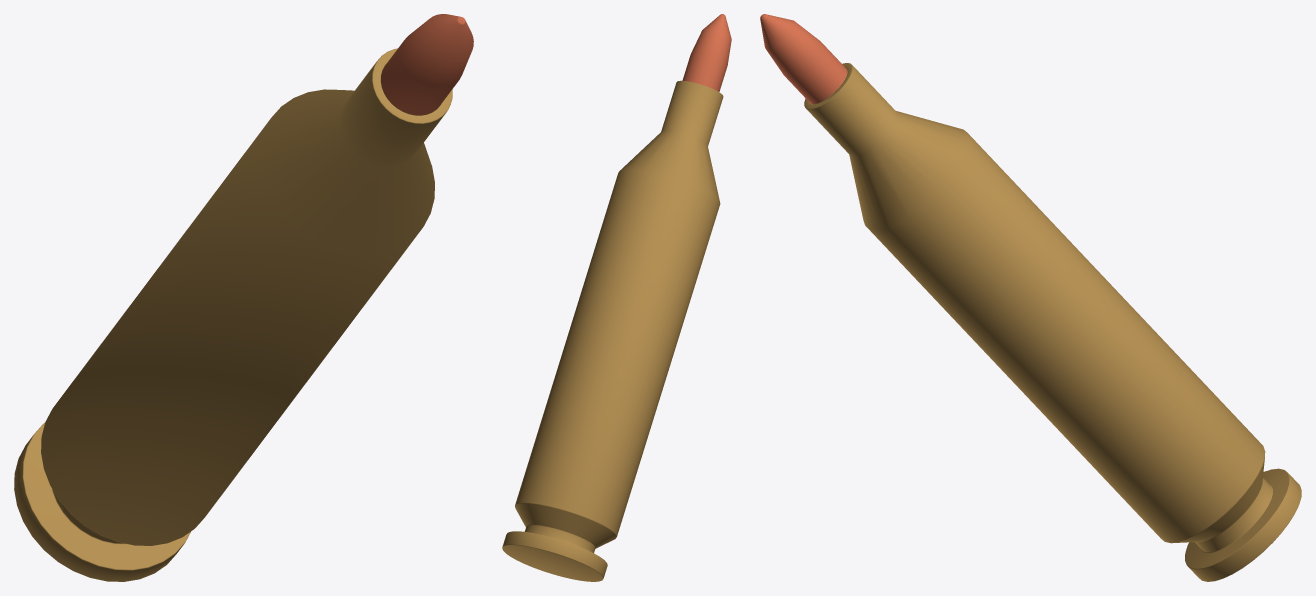
The model's file is Bullet.fbx.
The picture shows the model from 3 angles, left to right: view 1: azimuth 30°, elevation 25°; view 2: azimuth 150°, elevation 25°; view 3: azimuth 270°, elevation 25°; orthographic projection. The views are drawn at different scales.
Parts seen in each view (by area): view 1: Cylinder; view 2: Cylinder; view 3: Cylinder.
Part boxes in pixels (x1,y1,x2,y2): Cylinder: (14,14,473,581); Cylinder: (502,14,731,581); Cylinder: (760,14,1301,581).
Size of the model in its own units: 225 by 907 by 783.
